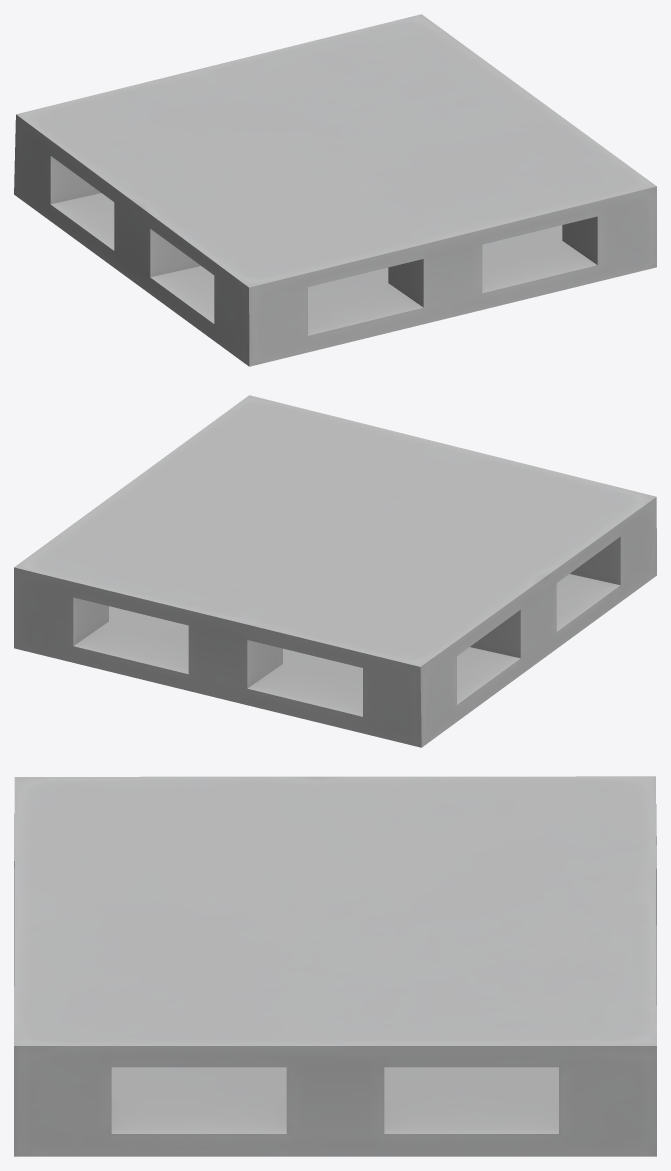
Rendered from Pfb_PlasticPallet__5.fbx.
3 renders of one model, top to bottom at view 1: azimuth 30°, elevation 25°; view 2: azimuth 150°, elevation 25°; view 3: azimuth 270°, elevation 25°, orthographic. The views are drawn at different scales.
Visible parts, largest first — view 1: Mat_PlasticPallet_01; view 2: Mat_PlasticPallet_01; view 3: Mat_PlasticPallet_01.
Boxes of the visible parts, left/top/right/bottom form: Mat_PlasticPallet_01: left=14, top=14, right=656, bottom=366; Mat_PlasticPallet_01: left=14, top=395, right=656, bottom=747; Mat_PlasticPallet_01: left=14, top=776, right=656, bottom=1156.
Bounding box in the file's own units: 1.54 × 0.2913 × 1.54.
1 material, 1 textured.
